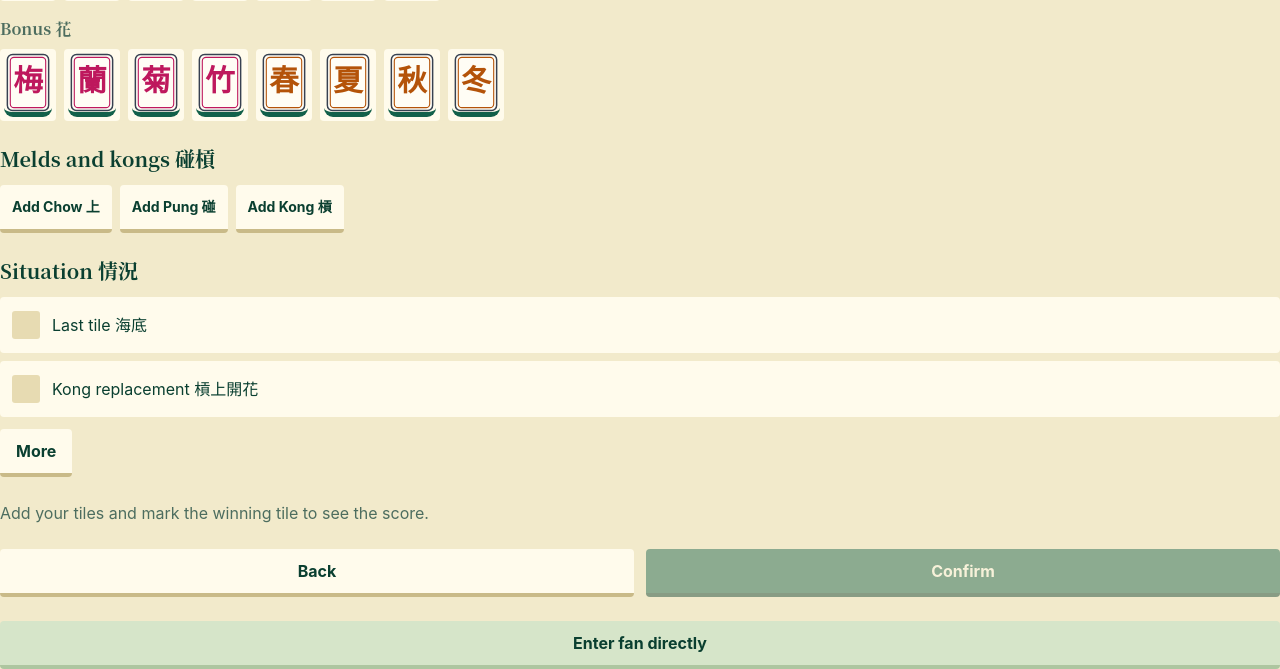
Scenario: ReviewScreen › hides rare flags behind More
The image size is (1280, 669).
(page scrolled)
expect the checkbox labelled "heavenly" is not shown: met
expect the checkbox labelled "robbing" is not shown: met
Click the button "More": click(36, 453) [0,429,72,477]
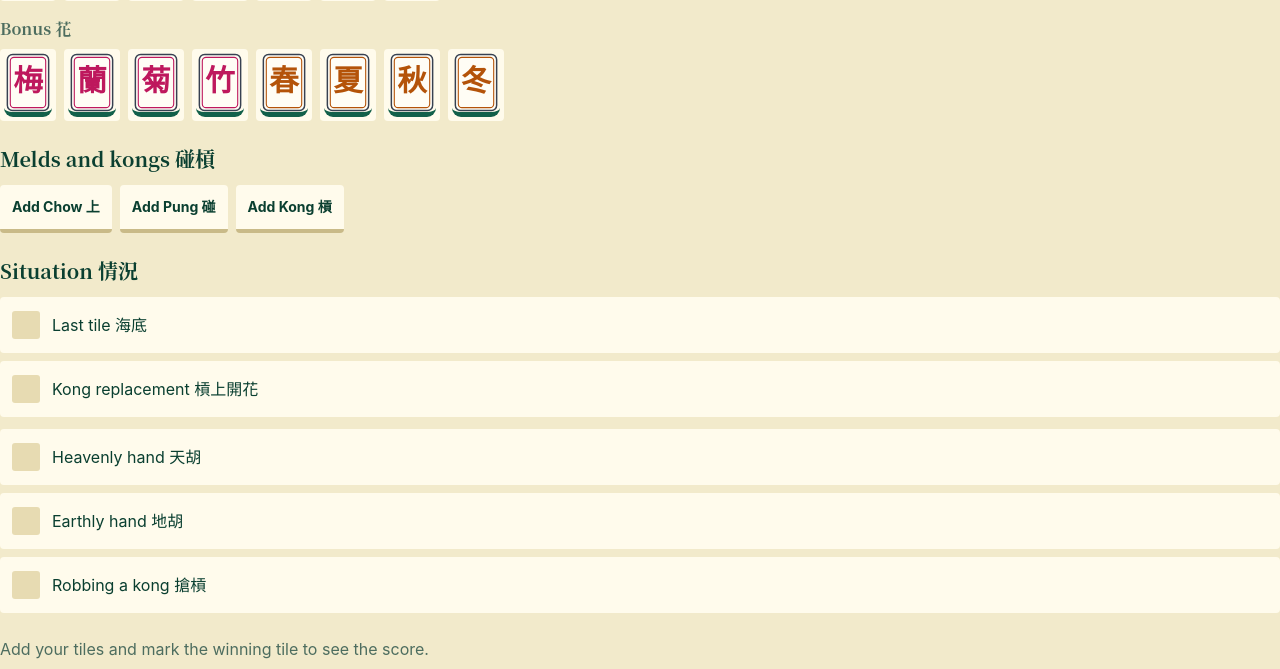
expect the checkbox labelled "Heavenly hand 天胡" is shown: met, box [12,443,40,471]
expect the checkbox labelled "Earthly hand 地胡" is shown: met, box [12,507,40,535]
expect the checkbox labelled "Robbing a kong 搶槓" is shown: met, box [12,571,40,599]
